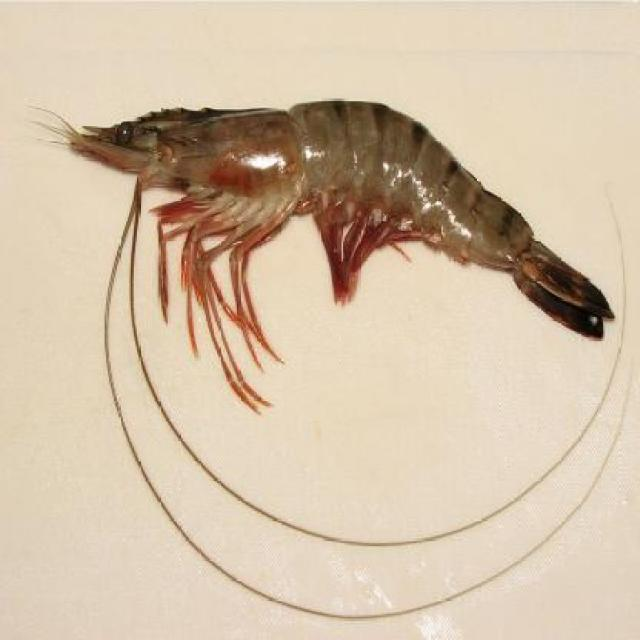shrimp: (60, 91, 619, 350)
